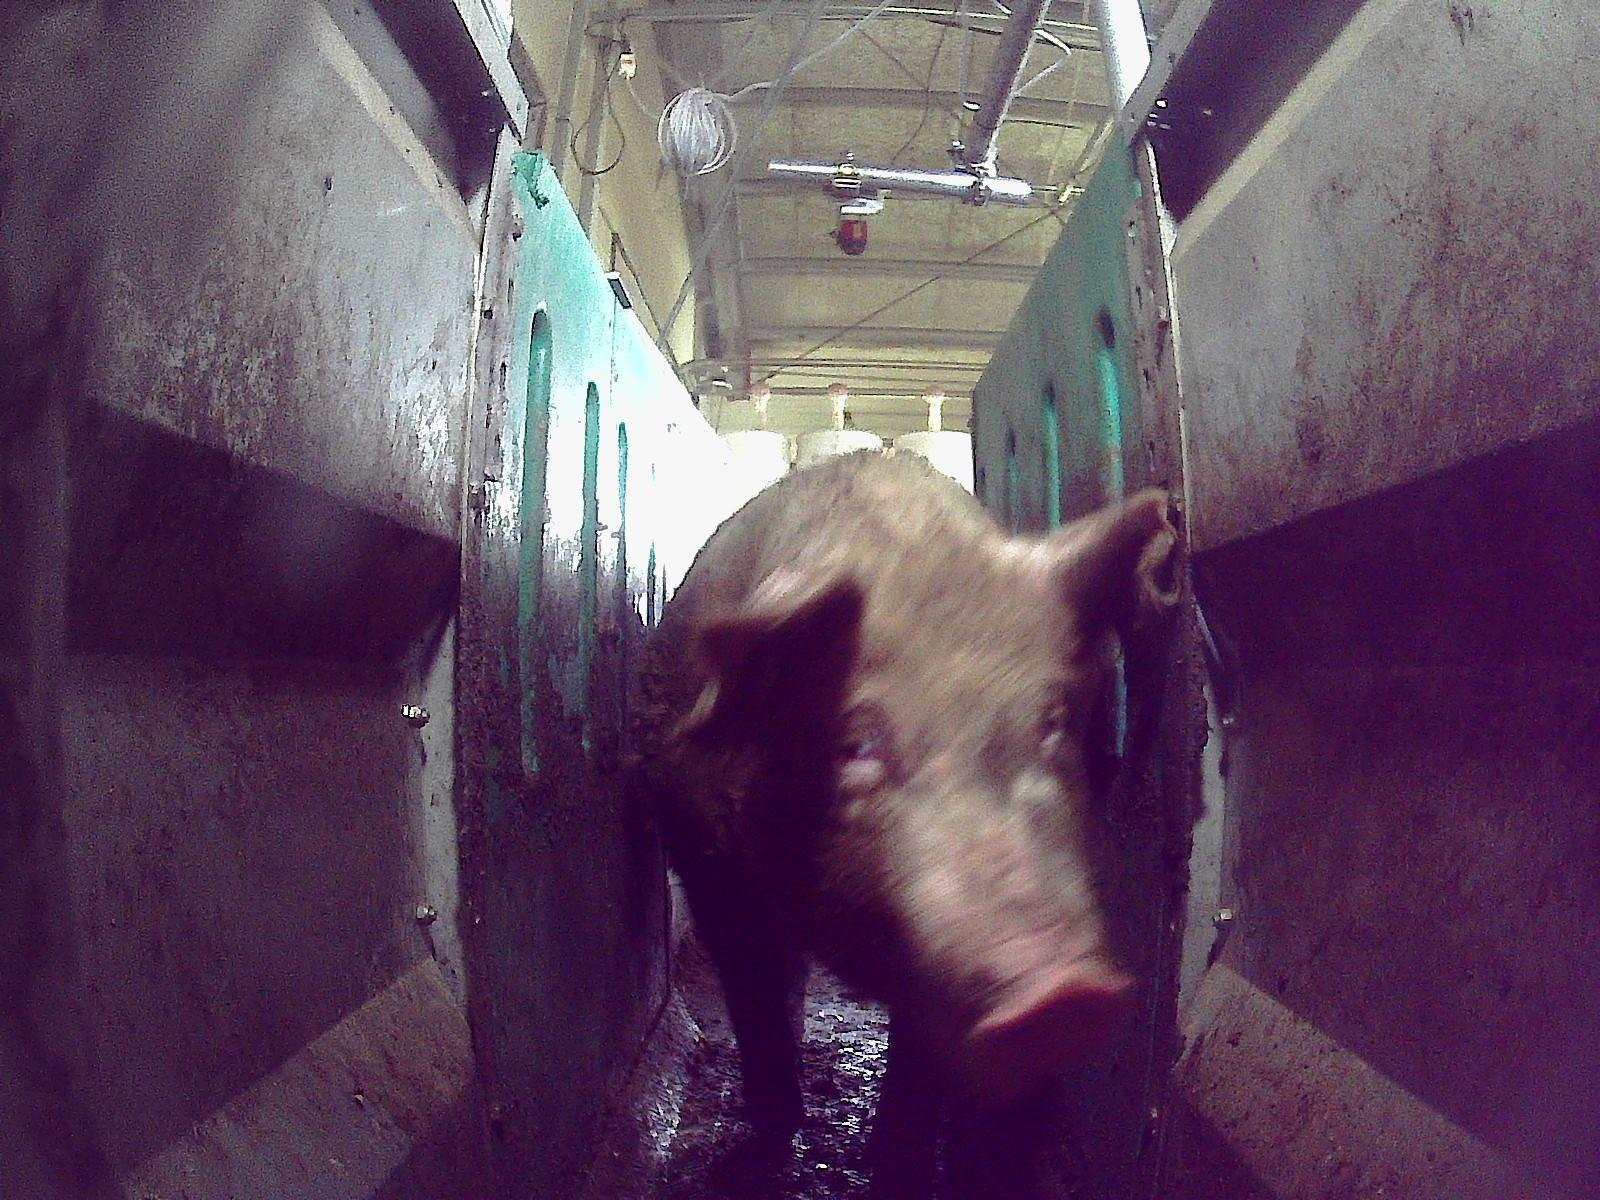Face: (754, 537, 1134, 1108)
